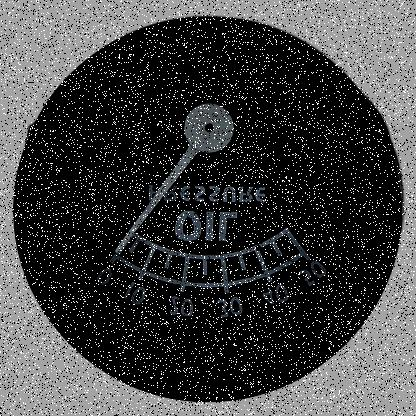needle: (112, 146, 201, 256)
